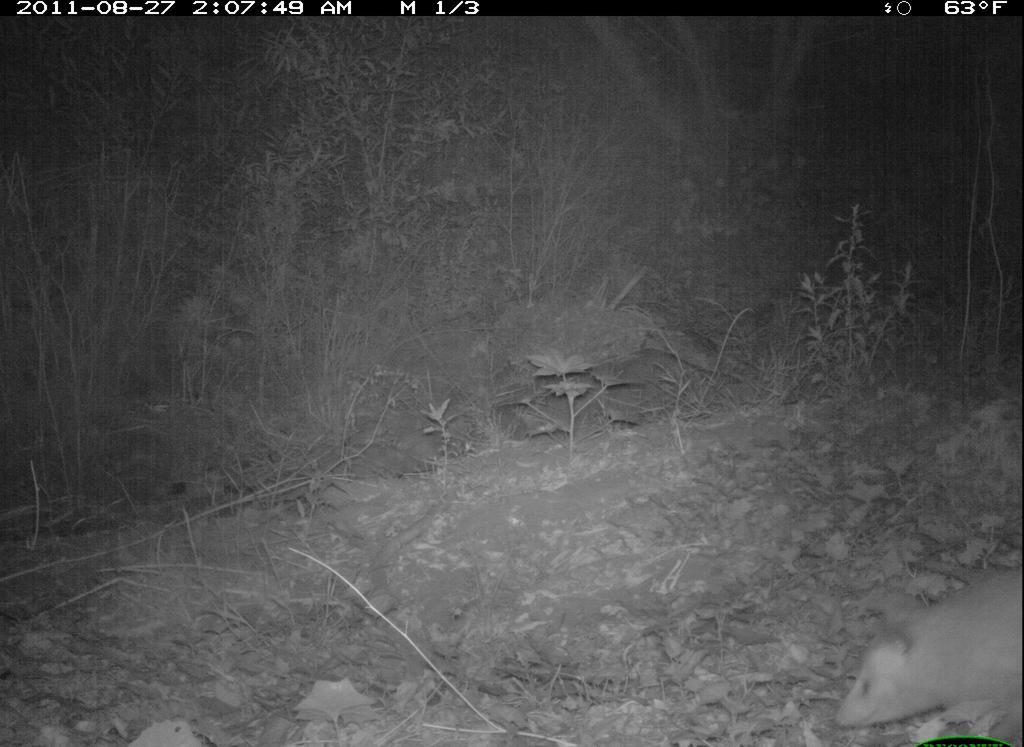opossum: (834, 562, 1021, 742)
